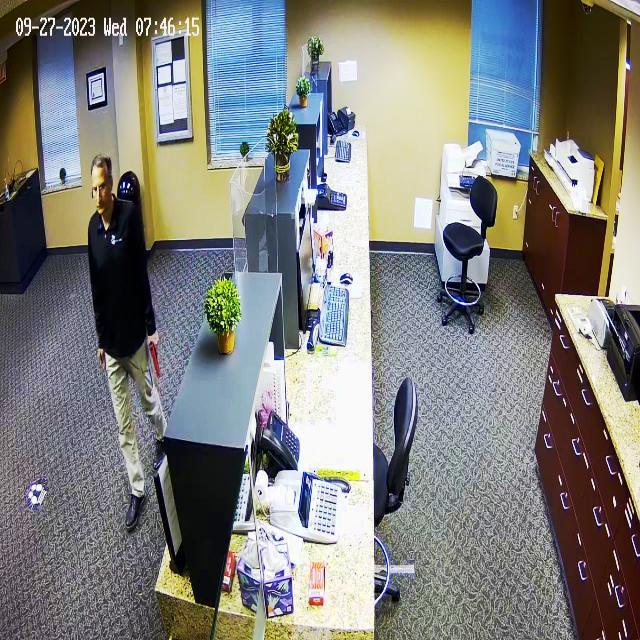Gun: (143, 321, 170, 387)
